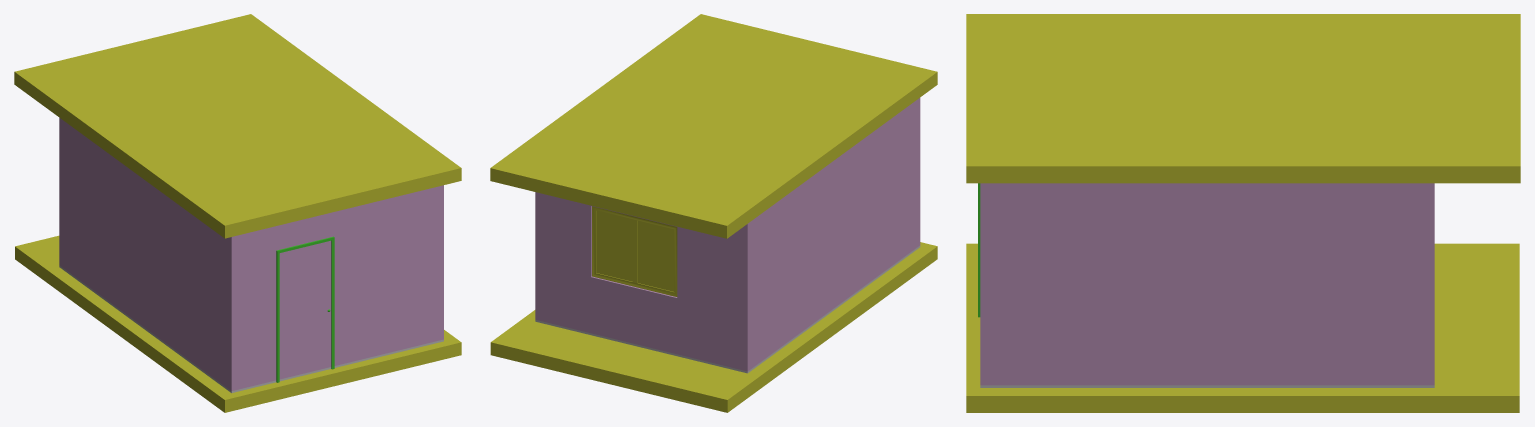
File: FloorPlan314.fbx
The picture shows the model from 3 angles, left to right: view 1: azimuth 30°, elevation 25°; view 2: azimuth 150°, elevation 25°; view 3: azimuth 270°, elevation 25°; orthographic projection. The views are drawn at different scales.
Visible parts, largest first — view 1: StandardWallSize.012, Ceiling.011, Floor.011, StandardDoorFrame1.010; view 2: Ceiling.011, StandardWallSize.012, Floor.011, Window; view 3: Ceiling.011, StandardWallSize.012, Floor.011.
Boxes of the visible parts, x1=… form: StandardWallSize.012: x1=59, y1=118, x2=443, y2=393; Ceiling.011: x1=14, y1=14, x2=461, y2=238; Floor.011: x1=15, y1=235, x2=461, y2=412; StandardDoorFrame1.010: x1=276, y1=236, x2=334, y2=382; Ceiling.011: x1=490, y1=14, x2=937, y2=238; StandardWallSize.012: x1=535, y1=98, x2=920, y2=373; Floor.011: x1=490, y1=242, x2=937, y2=412; Window: x1=592, y1=206, x2=677, y2=296; Ceiling.011: x1=966, y1=14, x2=1520, y2=183; StandardWallSize.012: x1=980, y1=183, x2=1434, y2=387; Floor.011: x1=966, y1=243, x2=1519, y2=412.
Bounding box in the file's own units: 384 × 290 × 591.
